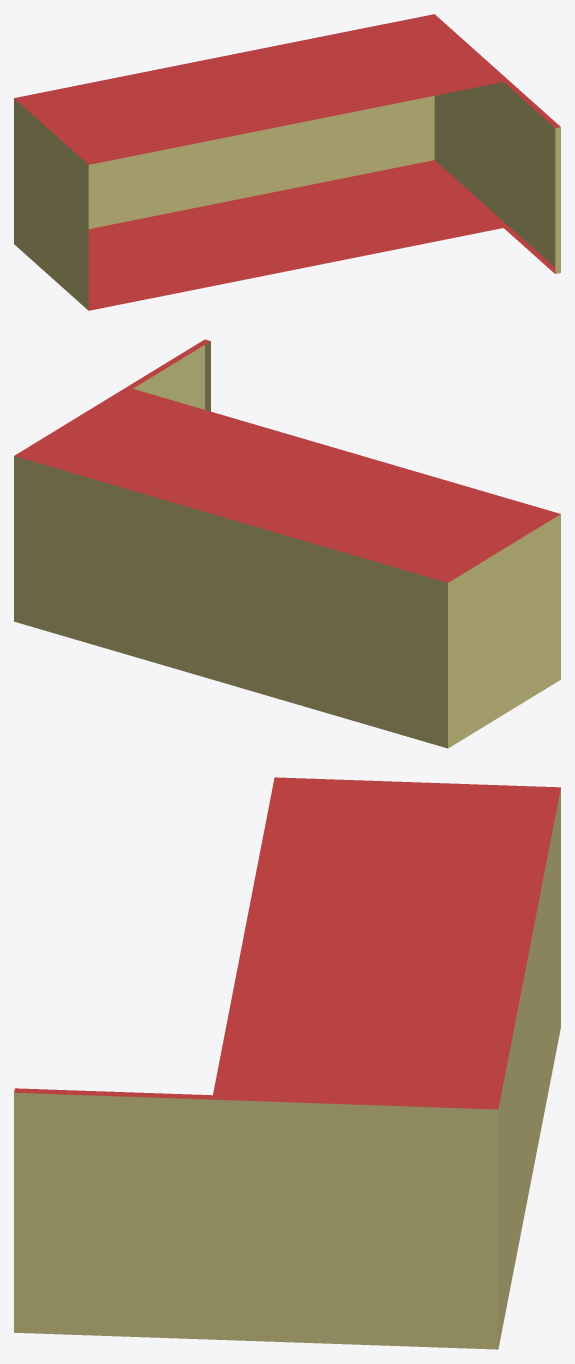
The picture shows the model from 3 angles, top to bottom: view 1: azimuth 30°, elevation 25°; view 2: azimuth 150°, elevation 25°; view 3: azimuth 270°, elevation 25°; orthographic projection. The views are drawn at different scales.
Size of the model in its own units: 18.89 by 13.15 by 6.37.
